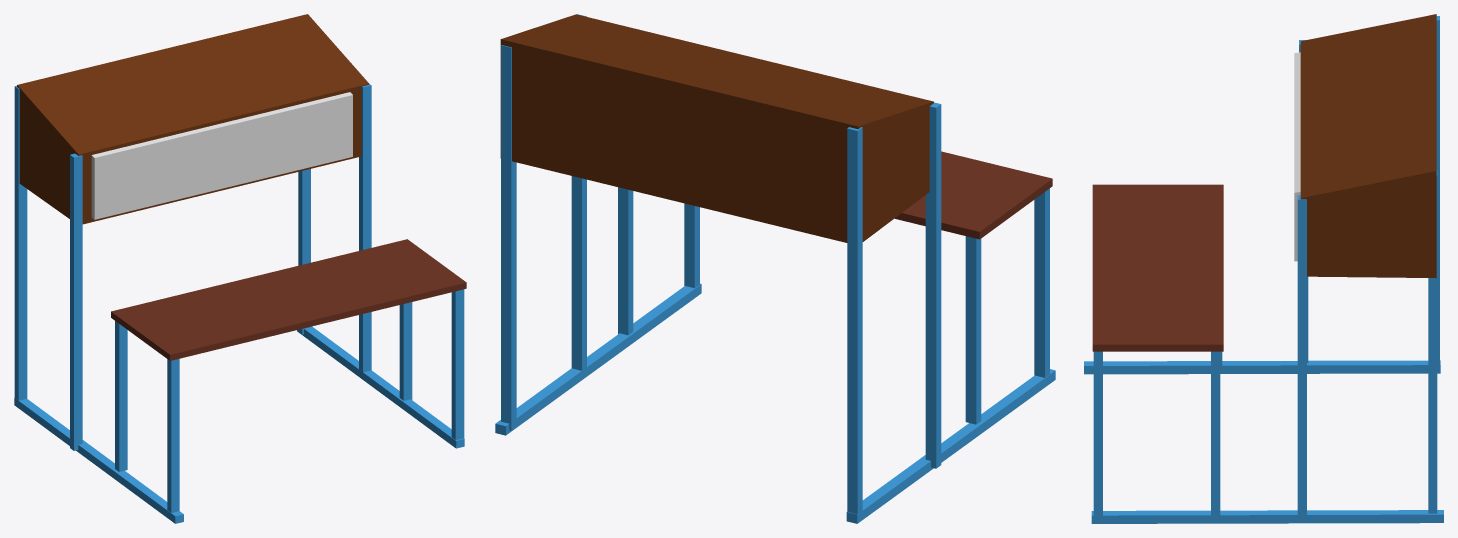
File: bench.fbx
3 renders of one model, left to right at view 1: azimuth 30°, elevation 25°; view 2: azimuth 150°, elevation 25°; view 3: azimuth 270°, elevation 25°, orthographic. The views are drawn at different scales.
Visible parts, largest first — view 1: Cube.001, Cube, Cube.004, Cube.002, Cube.006, Cube.003, Cube.010, Cube.011, Cube.009, Cube.005, Cube.013, Cube.012 (+1 smaller); view 2: Cube.001, Cube, Cube.006, Cube.002, Cube.007, Cube.011, Cube.010, Cube.013, Cube.003, Cube.005, Cube.012, Cube.009; view 3: Cube.001, Cube, Cube.011, Cube.010, Cube.003, Cube.007, Cube.012, Cube.009, Cube.004, Cube.006.
Boxes of the visible parts, x1=… form: Cube.001: x1=17, y1=14, x2=369, y2=224; Cube: x1=111, y1=239, x2=466, y2=360; Cube.004: x1=91, y1=92, x2=352, y2=219; Cube.002: x1=70, y1=153, x2=82, y2=450; Cube.006: x1=14, y1=85, x2=27, y2=400; Cube.003: x1=359, y1=84, x2=371, y2=372; Cube.010: x1=14, y1=398, x2=183, y2=523; Cube.011: x1=297, y1=326, x2=464, y2=448; Cube.009: x1=451, y1=289, x2=464, y2=439; Cube.005: x1=167, y1=359, x2=179, y2=512; Cube.013: x1=115, y1=321, x2=127, y2=471; Cube.012: x1=399, y1=302, x2=412, y2=400; Cube.001: x1=500, y1=14, x2=933, y2=242; Cube: x1=895, y1=151, x2=1052, y2=239; Cube.006: x1=847, y1=127, x2=862, y2=514; Cube.002: x1=925, y1=102, x2=941, y2=468; Cube.007: x1=501, y1=45, x2=516, y2=430; Cube.011: x1=495, y1=283, x2=701, y2=435; Cube.010: x1=846, y1=369, x2=1055, y2=523; Cube.013: x1=965, y1=236, x2=981, y2=424; Cube.003: x1=571, y1=14, x2=586, y2=370; Cube.005: x1=1034, y1=188, x2=1049, y2=377; Cube.012: x1=618, y1=187, x2=633, y2=335; Cube.009: x1=684, y1=203, x2=699, y2=288; Cube.001: x1=1300, y1=14, x2=1436, y2=278; Cube: x1=1092, y1=184, x2=1223, y2=351; Cube.011: x1=1091, y1=510, x2=1443, y2=523; Cube.010: x1=1084, y1=360, x2=1440, y2=374; Cube.003: x1=1297, y1=195, x2=1306, y2=514; Cube.007: x1=1428, y1=171, x2=1437, y2=513; Cube.012: x1=1211, y1=351, x2=1220, y2=523; Cube.009: x1=1093, y1=351, x2=1102, y2=518; Cube.004: x1=1294, y1=52, x2=1300, y2=261; Cube.006: x1=1436, y1=16, x2=1439, y2=364.
Size of the model in its own units: 2045 by 2103 by 1924.
